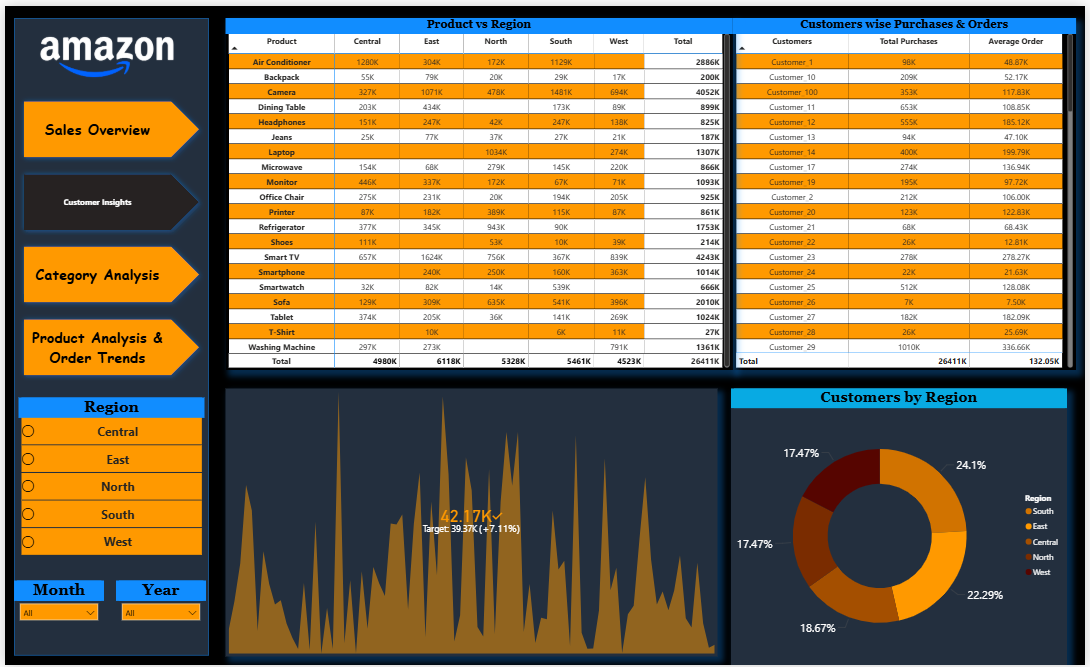

What the dashboard file says about the page in this screenshot:
{"tool":"powerbi","page":{"name":"Customer Insights","canvas":[1800,1100],"ordinal":1},"visuals":[{"type":"shape","box":[15,20,325,1062.5],"z":0},{"type":"tableEx","title":"Customers wise Purchases & Orders","fields":{"Values":["Amazon_Sales.Customer","Amazon_Sales.Total Purchases","Amazon_Sales.avg orders"]},"box":[1212.5,20,572.5,587.5],"z":1000},{"type":"pivotTable","title":"Product vs Region","fields":{"Rows":["Amazon_Sales.Product"],"Columns":["Amazon_Sales.Region"],"Values":["Sum(Amazon_Sales.Sales)"]},"box":[367.5,20,845,587.5],"z":2000},{"type":"image","box":[0,20,340,130],"z":3000},{"type":"kpi","fields":{"Goal":["Sum(Amazon_Sales.Target)"],"Indicator":["Sum(Amazon_Sales.Sales)"],"TrendLine":["Amazon_Sales.Customer"]},"box":[366.7,636.7,820,446.7],"z":4000},{"type":"donutChart","title":"Customers by Region","fields":{"Category":["Amazon_Sales.Region"],"Y":["Amazon_Sales.Total Customer"]},"box":[1210,636.7,560,463.3],"z":5000},{"type":"slicer","title":"Year","fields":{"Values":["Amazon_Sales.Date.Variation.Date Hierarchy.Year"]},"box":[183.8,957.5,150,70],"z":6000},{"type":"pageNavigator","box":[22.5,150,310,475],"z":7000},{"type":"listSlicer","fields":{"Values":["Amazon_Sales.Region"]},"box":[22.5,715,310,225],"z":8000},{"type":"slicer","title":"Month","fields":{"Values":["Amazon_Sales.Date.Variation.Date Hierarchy.Month"]},"box":[15,957.5,150,70],"z":9000}]}

Visuals, with their boxes in screenshot pixels (x1, y1, x2, y2), scaled from the page's 1800x1100 canvas onto the 1090x667 screenshot:
shape: crop(9, 12, 206, 656)
"Customers wise Purchases & Orders" tableEx: crop(734, 12, 1081, 368)
"Product vs Region" pivotTable: crop(223, 12, 734, 368)
image: crop(0, 12, 206, 91)
kpi - Sum(Amazon_Sales.Target) x Sum(Amazon_Sales.Sales): crop(222, 386, 719, 657)
"Customers by Region" donutChart: crop(733, 386, 1072, 666)
"Year" slicer: crop(111, 581, 202, 623)
pageNavigator: crop(14, 91, 201, 379)
listSlicer - Amazon_Sales.Region: crop(14, 434, 201, 570)
"Month" slicer: crop(9, 581, 100, 623)
